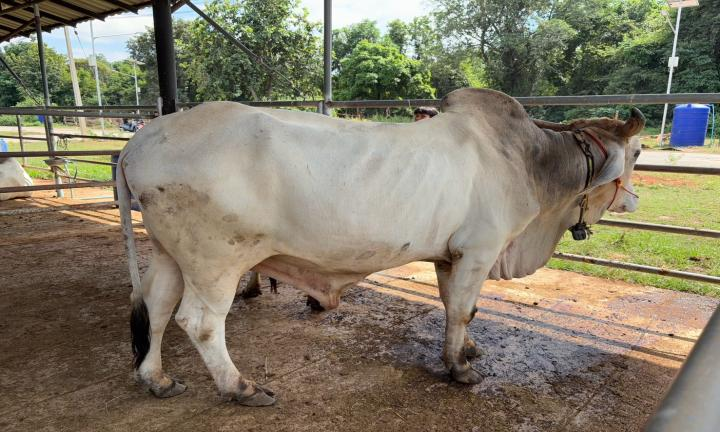Brahman: (117, 88, 644, 405)
